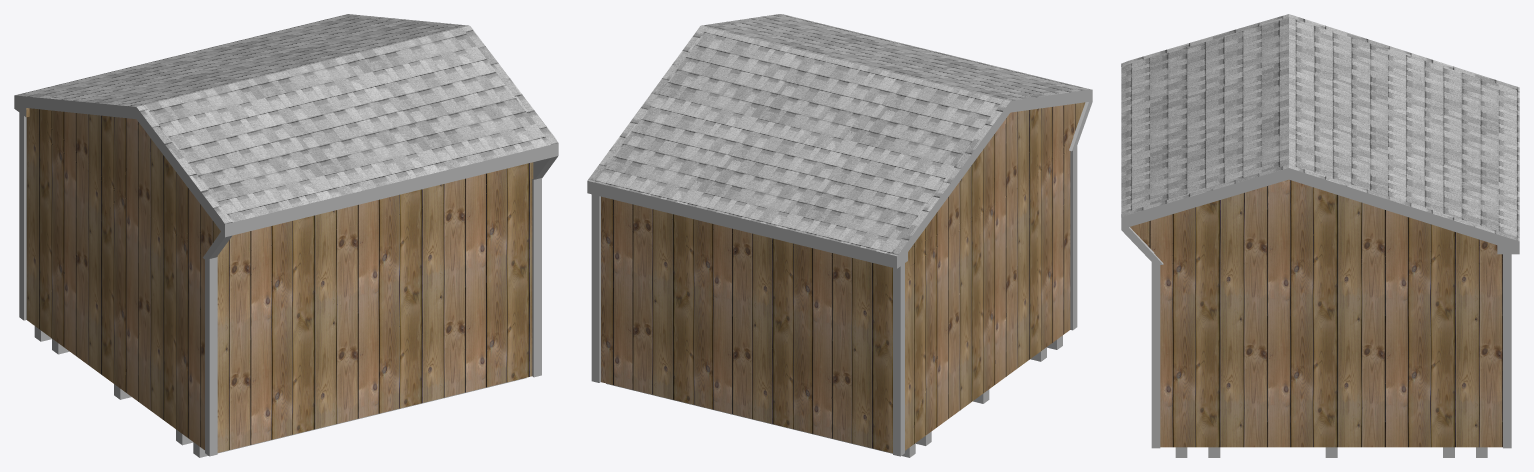
File: Quaker Sheds_10x10.obj
The picture shows the model from 3 angles, left to right: view 1: azimuth 30°, elevation 25°; view 2: azimuth 150°, elevation 25°; view 3: azimuth 270°, elevation 25°; orthographic projection. The views are drawn at different scales.
Parts seen in each view (by area): view 1: Shed, Roof, Sides, Trim, Floor; view 2: Shed, Roof, Sides, Trim, Floor; view 3: Shed, Roof, Sides, Trim, Floor.
Boxes of the visible parts, left/top/right/bottom form: Shed: left=26, top=108, right=533, bottom=452; Roof: left=15, top=14, right=558, bottom=224; Sides: left=14, top=95, right=558, bottom=261; Trim: left=19, top=112, right=541, bottom=456; Floor: left=34, top=326, right=526, bottom=457; Shed: left=601, top=102, right=1085, bottom=453; Roof: left=587, top=14, right=1090, bottom=256; Sides: left=587, top=89, right=1092, bottom=268; Trim: left=591, top=146, right=1077, bottom=456; Floor: left=606, top=335, right=1062, bottom=457; Shed: left=1130, top=179, right=1502, bottom=447; Roof: left=1121, top=14, right=1519, bottom=241; Sides: left=1121, top=168, right=1519, bottom=264; Trim: left=1151, top=254, right=1511, bottom=448; Floor: left=1175, top=447, right=1487, bottom=457.
Bounding box in the file's own units: 3.11 × 2.74 × 3.4.
